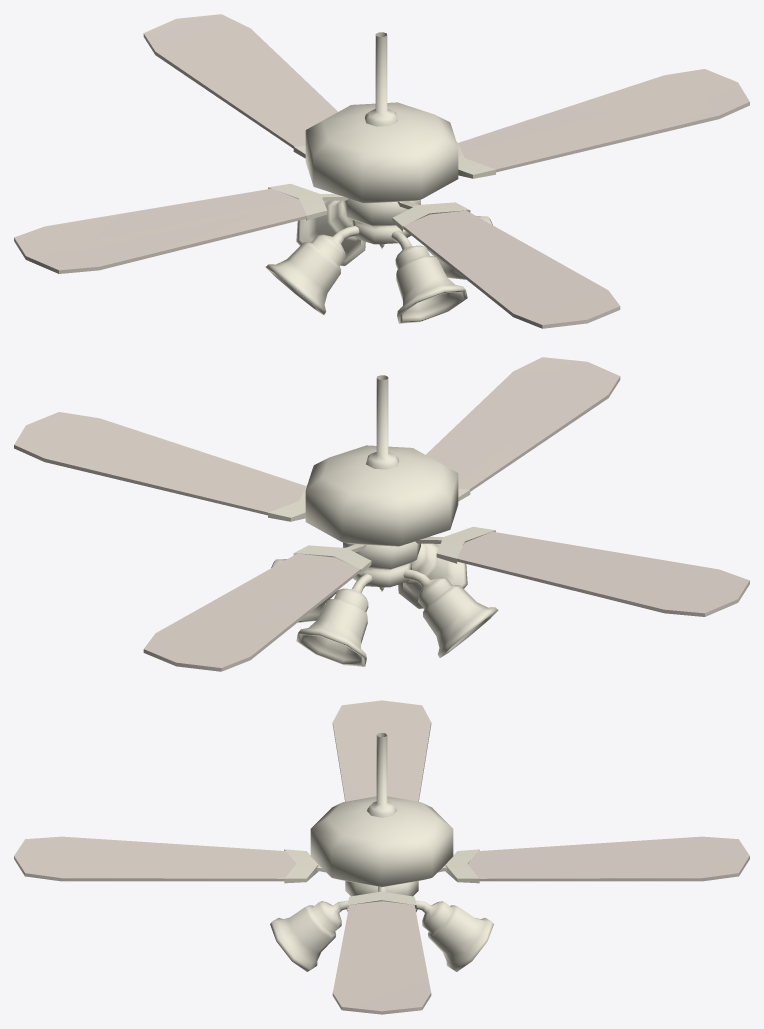
File: fan.fbx
3 views of the same model, one above another, from view 1: azimuth 30°, elevation 25°; view 2: azimuth 150°, elevation 25°; view 3: azimuth 270°, elevation 25° (orthographic). The views are drawn at different scales.
Parts seen in each view (by area): view 1: Fan_A_1_Blades, Fan_A_1, Fan_A_1_Lights; view 2: Fan_A_1_Blades, Fan_A_1, Fan_A_1_Lights; view 3: Fan_A_1_Blades, Fan_A_1, Fan_A_1_Lights.
Part boxes in pixels (<box>): Fan_A_1_Blades: <box>14,14,749,328</box>; Fan_A_1: <box>305,32,458,248</box>; Fan_A_1_Lights: <box>265,200,492,323</box>; Fan_A_1_Blades: <box>14,357,749,671</box>; Fan_A_1: <box>305,375,458,591</box>; Fan_A_1_Lights: <box>271,543,498,666</box>; Fan_A_1_Blades: <box>14,700,749,1014</box>; Fan_A_1: <box>310,733,453,896</box>; Fan_A_1_Lights: <box>270,900,493,971</box>.
Bounding box in the file's own units: 111 × 38.57 × 111.
1 material, 1 textured.
